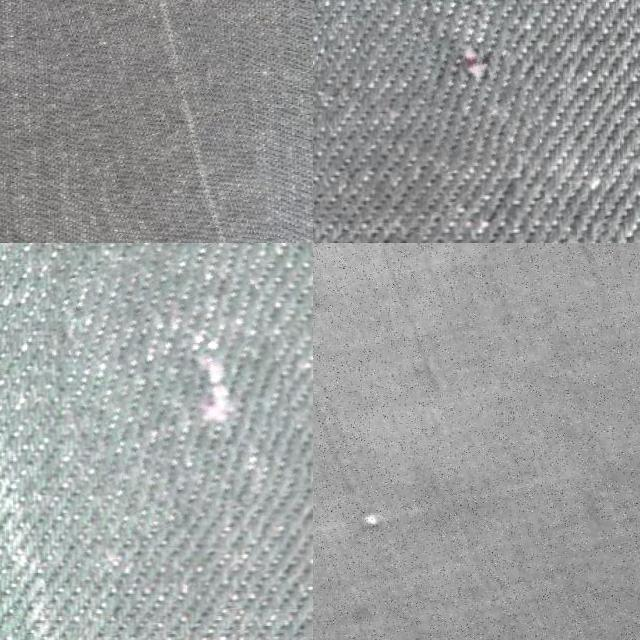other: (321, 468, 426, 570)
stains: (66, 243, 294, 529), (8, 0, 263, 243), (397, 0, 525, 168)
